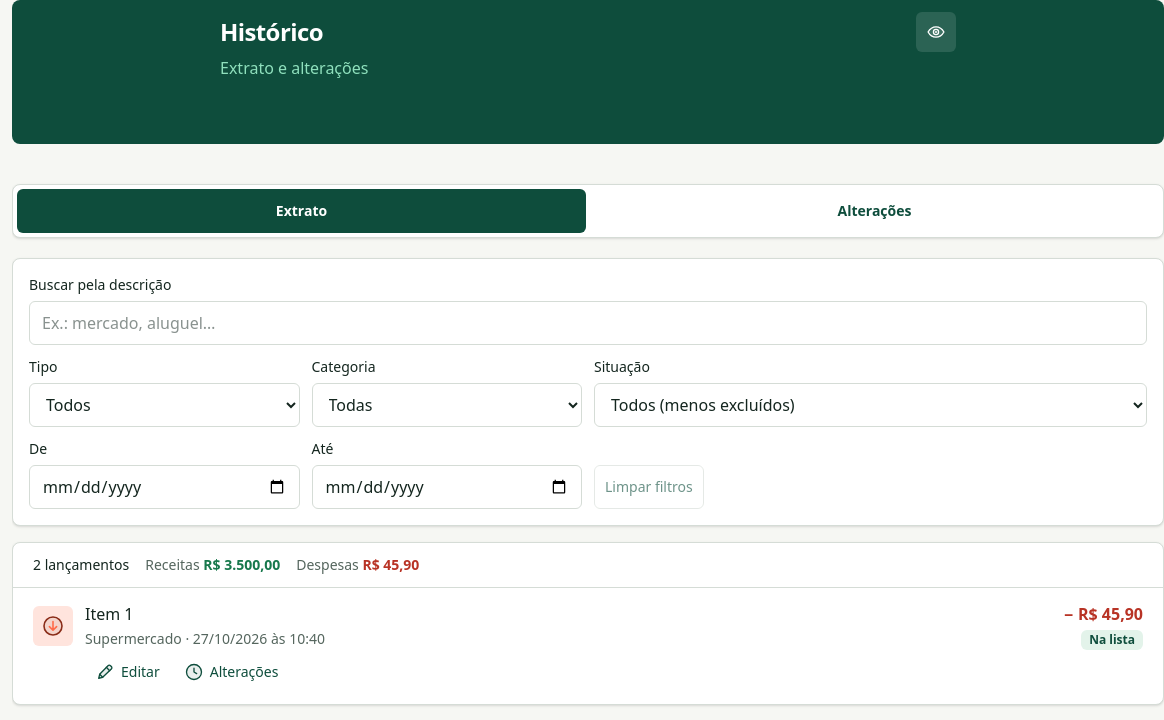
Histórico: extrato › as abas trocam o painel e a aba fica na URL; teclado com setas
Expected: the text "Item 1" is shown, [85,603,134,625]
Click the tab "Alterações" at (874, 211), box [590,189,1159,233]
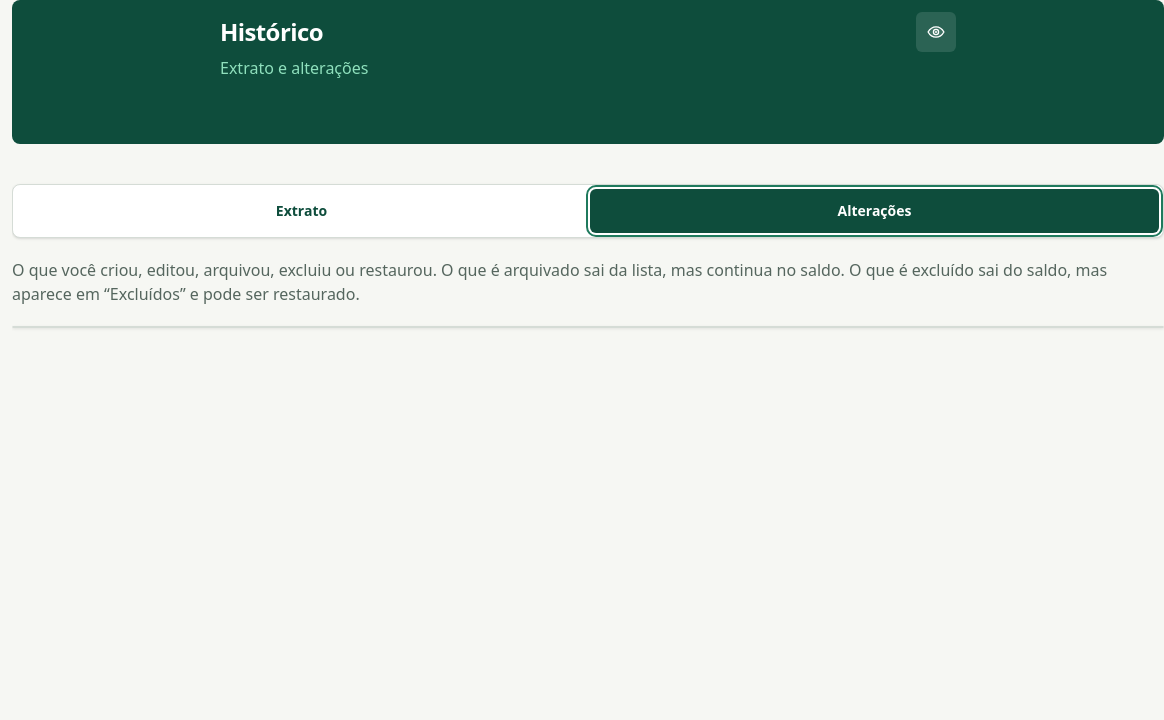
Expected: the element named "Alterações" is shown, [12,326,1163,328]
Now the tab "Alterações" is selected, box [590,189,1159,233]
Now the tab "Extrato" has attribute tabindex="-1", box [17,189,586,233]
Press Arrowright
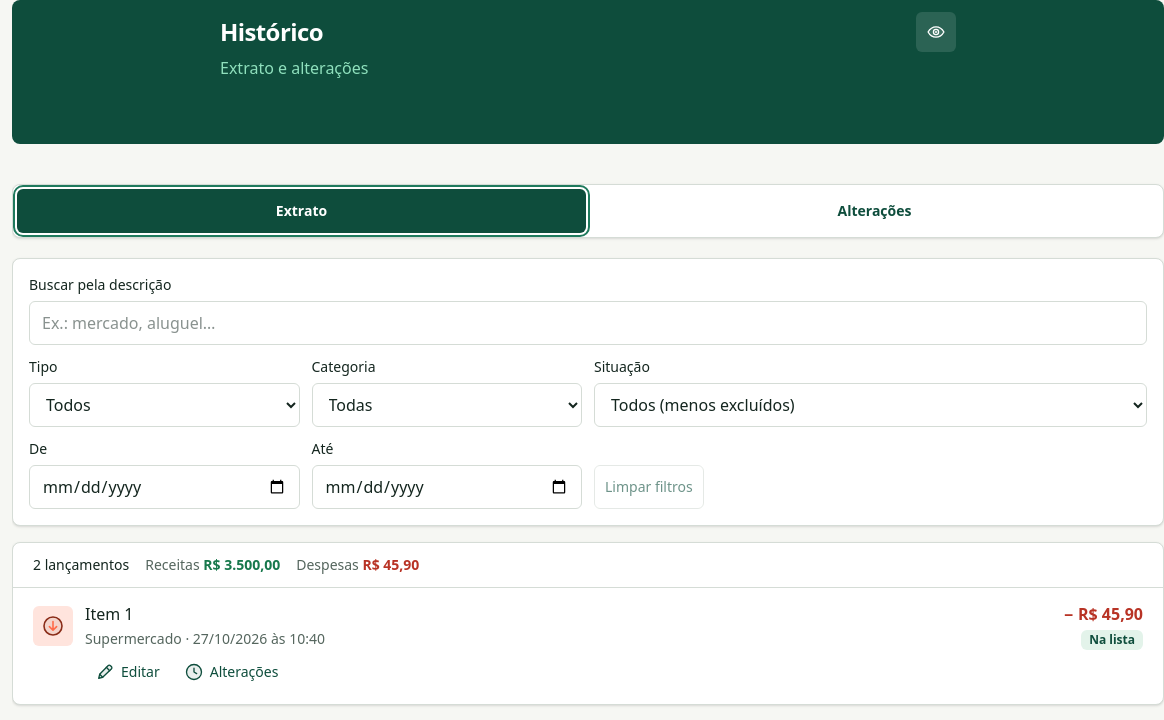
Now the element named "Extrato" is shown, box [12,542,1163,705]
